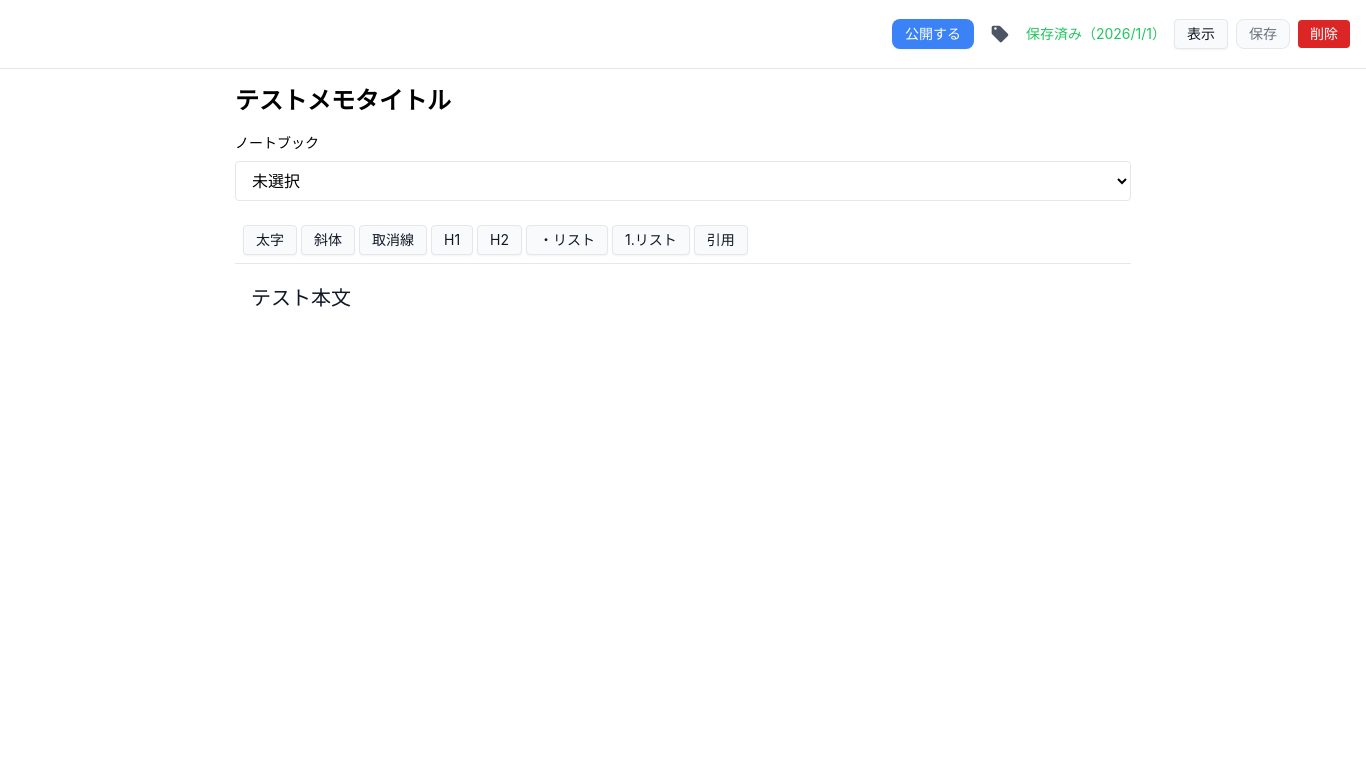
Test: 表示モード統合テスト › Task 5.3-2: 終了フロー › ESC キー押下で FocusMemoOverlay がアンマウントされる
This screenshot has width=1366, height=768.
Click the button with test id "display-mode-button" at (1201, 34), box [1174,19,1228,49]
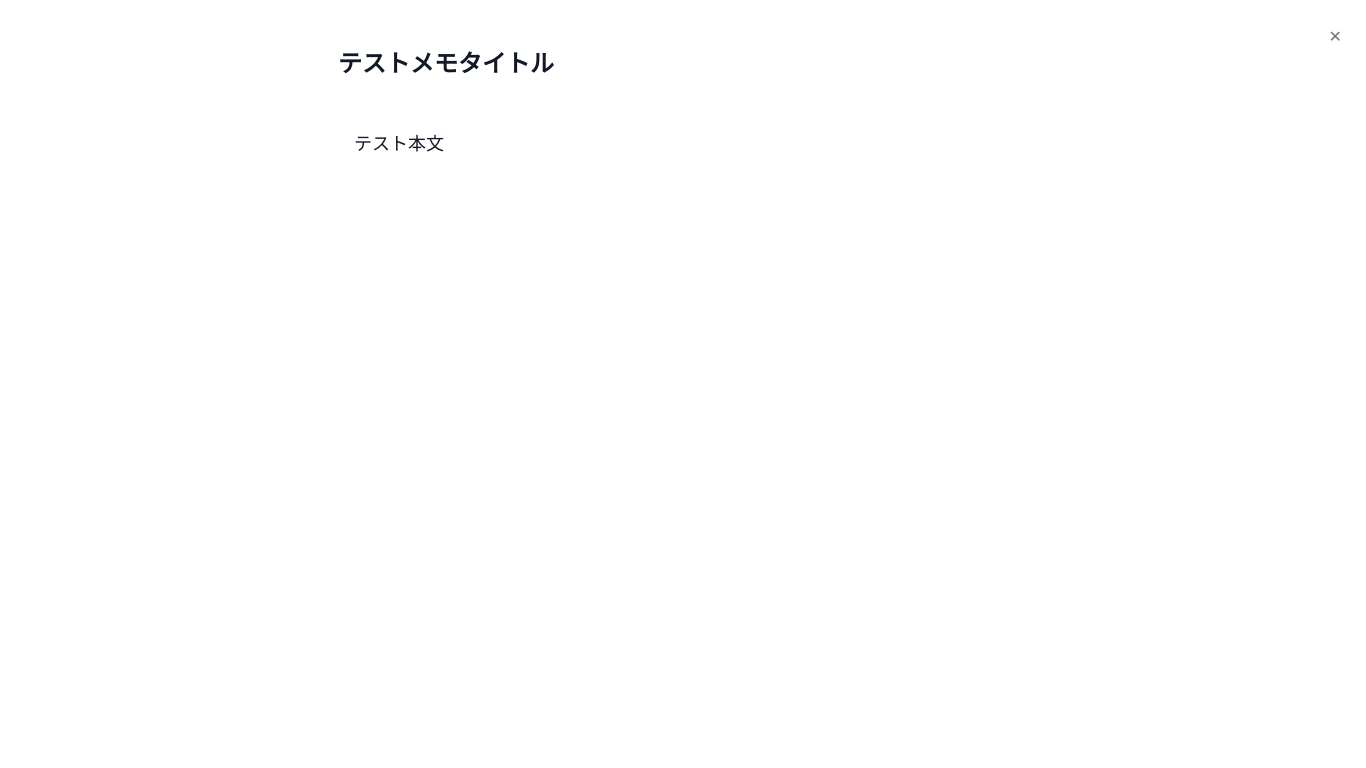
Expected: the dialog with test id "focus-memo-overlay" is shown
Press Escape
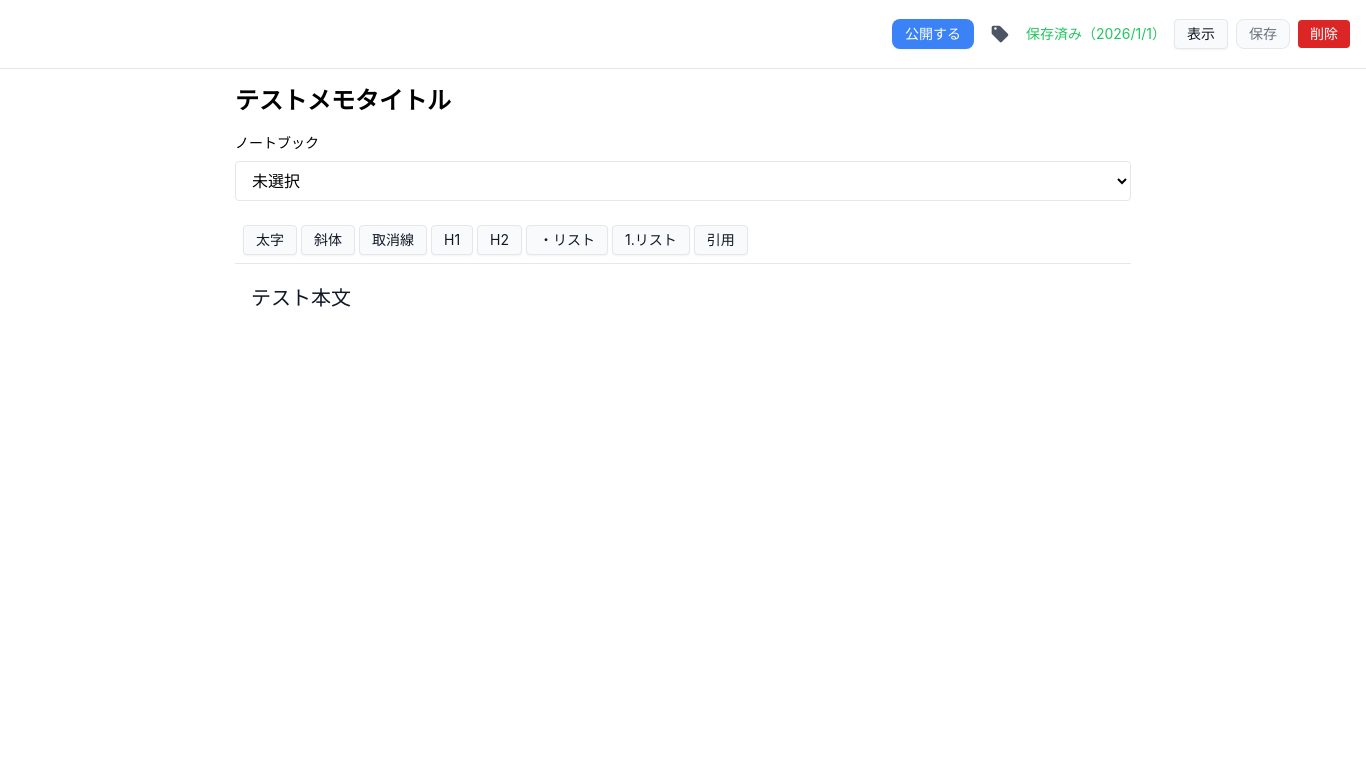
Expected: the dialog with test id "focus-memo-overlay" is gone
